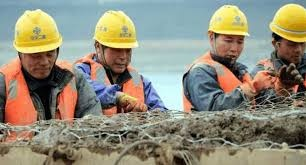yellow: (11, 7, 64, 79), (89, 6, 141, 76), (204, 2, 250, 64), (266, 2, 306, 65)
